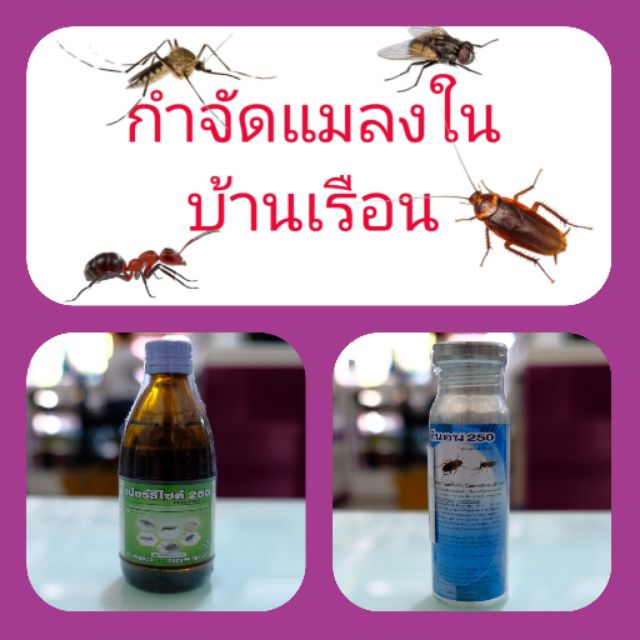Insecticide: (113, 337, 219, 602), (424, 337, 513, 608)
